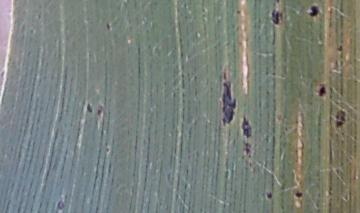tarspot: (220, 71, 237, 129), (240, 114, 253, 140), (333, 110, 348, 128), (270, 8, 284, 27), (307, 4, 319, 18), (317, 84, 327, 99), (270, 29, 278, 46), (243, 140, 251, 155), (293, 190, 304, 200), (96, 104, 104, 117), (56, 199, 65, 210), (85, 102, 93, 114), (265, 190, 273, 200), (104, 22, 112, 32), (336, 44, 344, 53), (264, 88, 272, 97), (28, 27, 35, 37), (104, 146, 111, 154), (264, 134, 270, 143), (235, 8, 242, 15), (270, 153, 276, 161), (264, 65, 268, 76), (270, 70, 276, 77), (200, 6, 206, 12), (352, 78, 358, 83), (274, 1, 280, 4)
